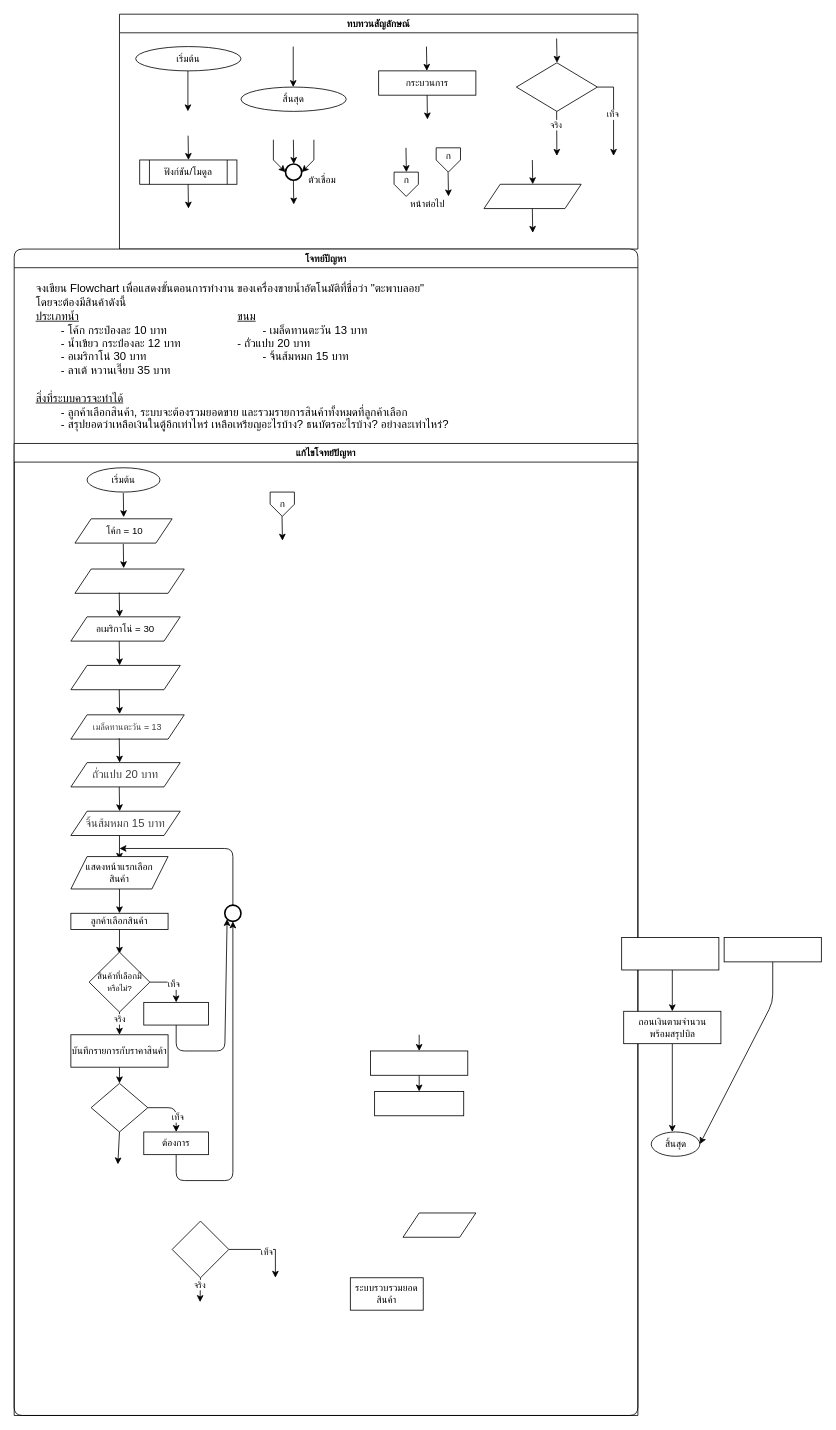
Image size: 836x1430. Some labels were removed from this diagram. Each missing label, with the box of its shape:
คำนวณยอดเงิน: (374, 1091, 464, 1116)
ต้องการสินค้าเพิ่มหรือไม่?: (90, 1083, 148, 1132)
น้ำเขียว = 12: (74, 568, 184, 593)
ประโยคเงื่อนไข: (516, 62, 597, 111)
ลาเต้ = 35: (70, 665, 180, 690)
ลูกค้าใส่เงิน: (370, 1050, 468, 1075)
สรุปยอดทอนเท่าไหร่?: (171, 1220, 229, 1278)
สรุปยอดเงินที่ต้องทอนอะไรบ้าง เหรียญหริอธนบัตร: (621, 937, 719, 970)
สินค้าหมด: (143, 1002, 209, 1025)
แสดง: (402, 1212, 476, 1237)
แสดงผล/รับค่า: (483, 183, 581, 209)
ไม่ต้องถอน สรุปบิล: (723, 937, 821, 962)
